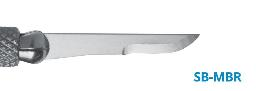scalpel: (0, 26, 200, 68)
